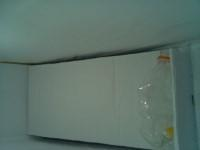bottle: (0, 47, 39, 150)
